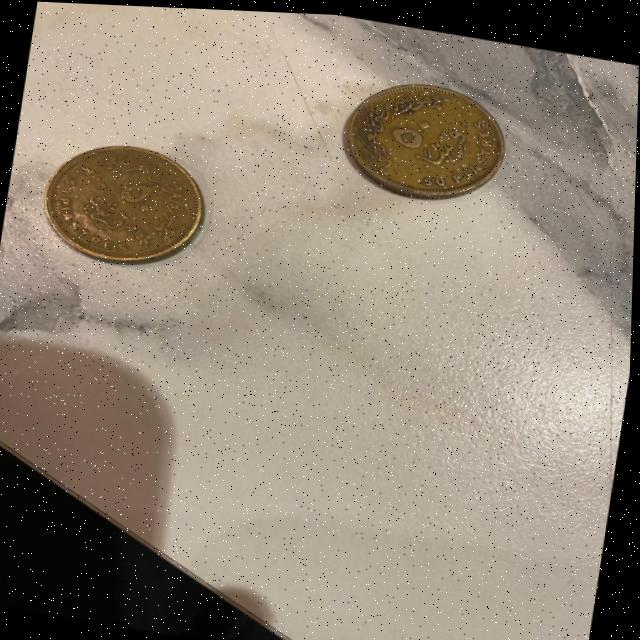Half Pound: (315, 54, 521, 227), (27, 114, 227, 284)
